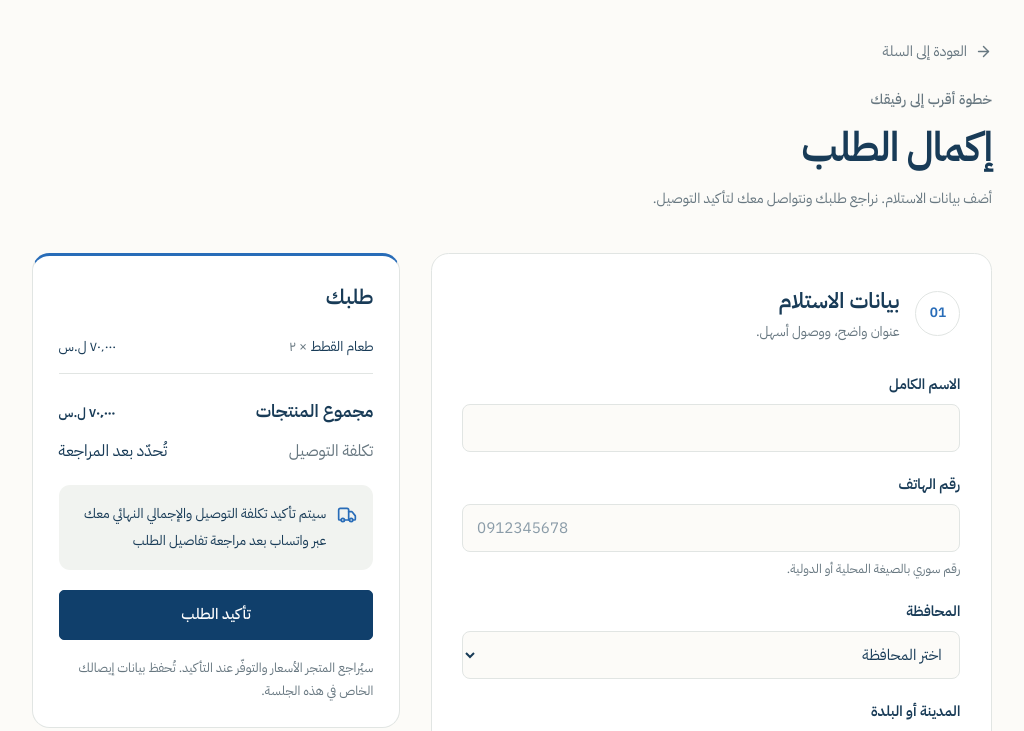
Test: checkout validation and recovery › offers all fourteen governorates and submits without a legacy delivery region or computed fee
Type "سارة أحمد" into the field labelled "الاسم الكامل" at (711, 428), box [462,404,960,452]
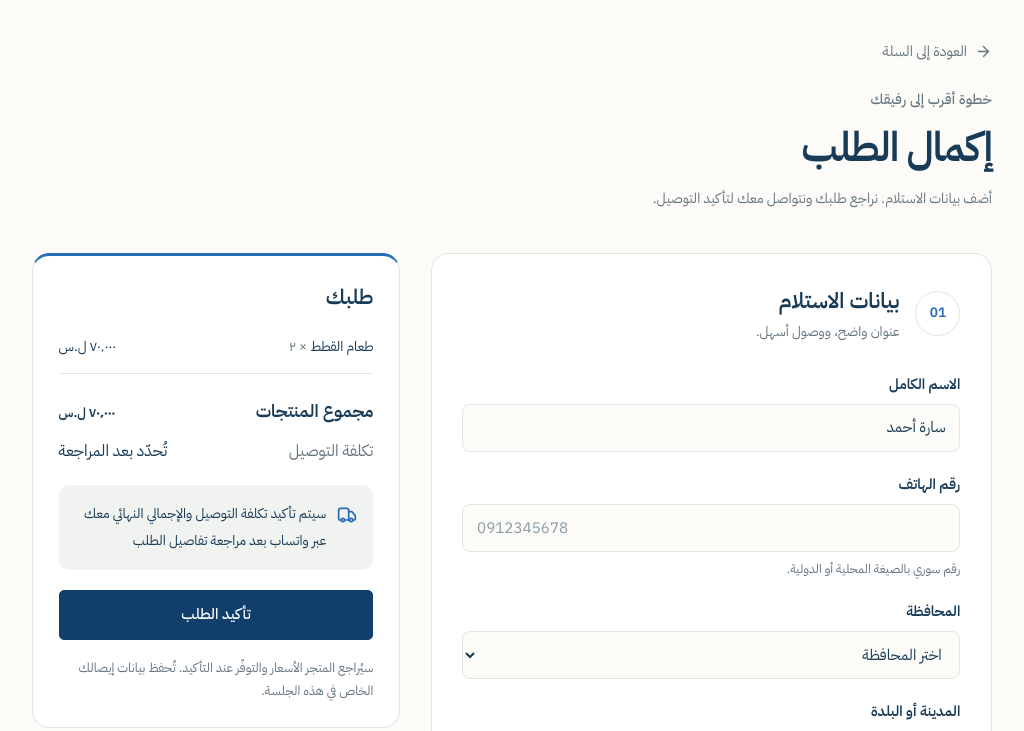
Type "٠٩١٢٣٤٥٦٧٨" into the field labelled "رقم الهاتف" at (711, 528), box [462,504,960,552]
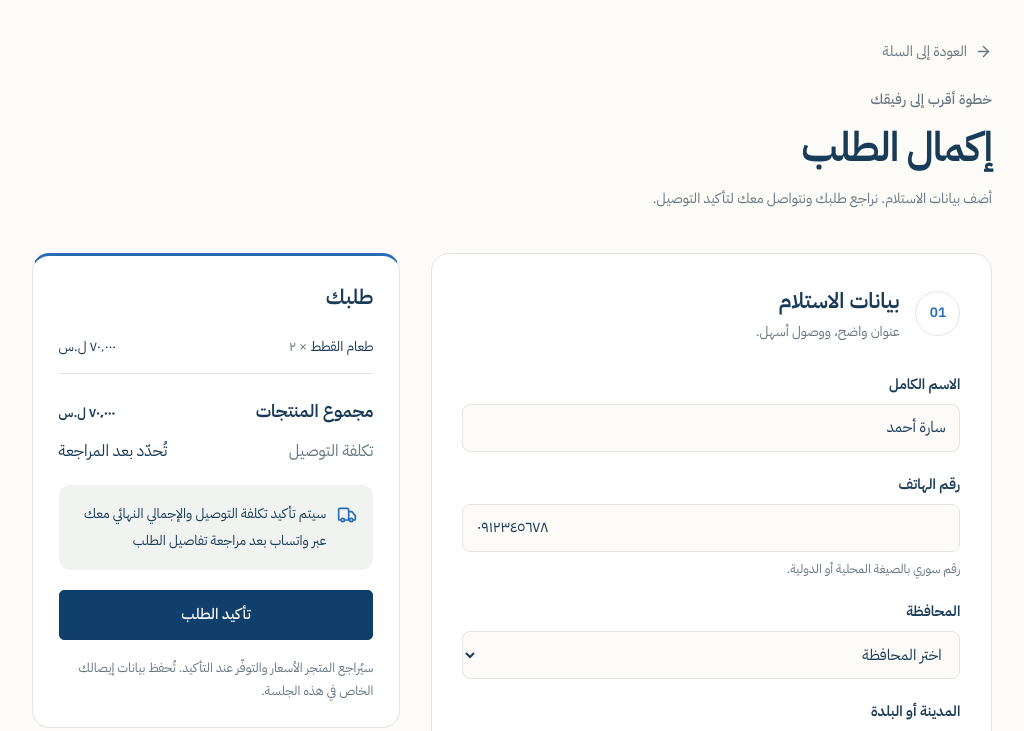
Select "دمشق" in the dropdown labelled "المحافظة" at (711, 655), box [462,631,960,679]
(page scrolled)
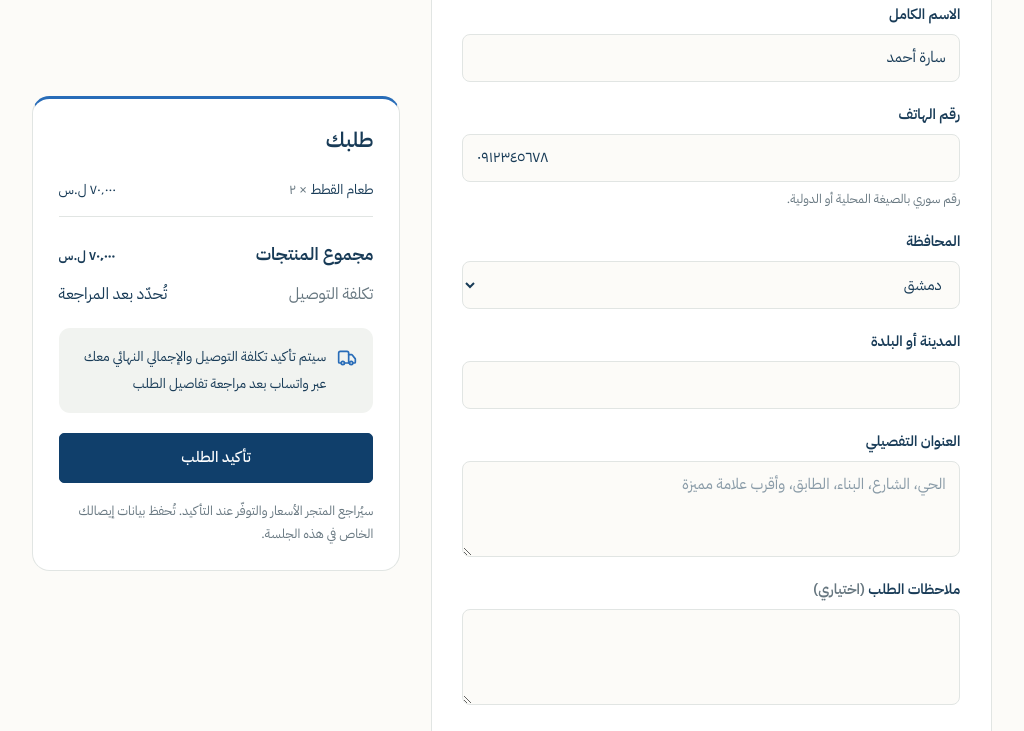
Type "دمشق" into the field labelled "المدينة أو البلدة" at (711, 385), box [462,361,960,409]
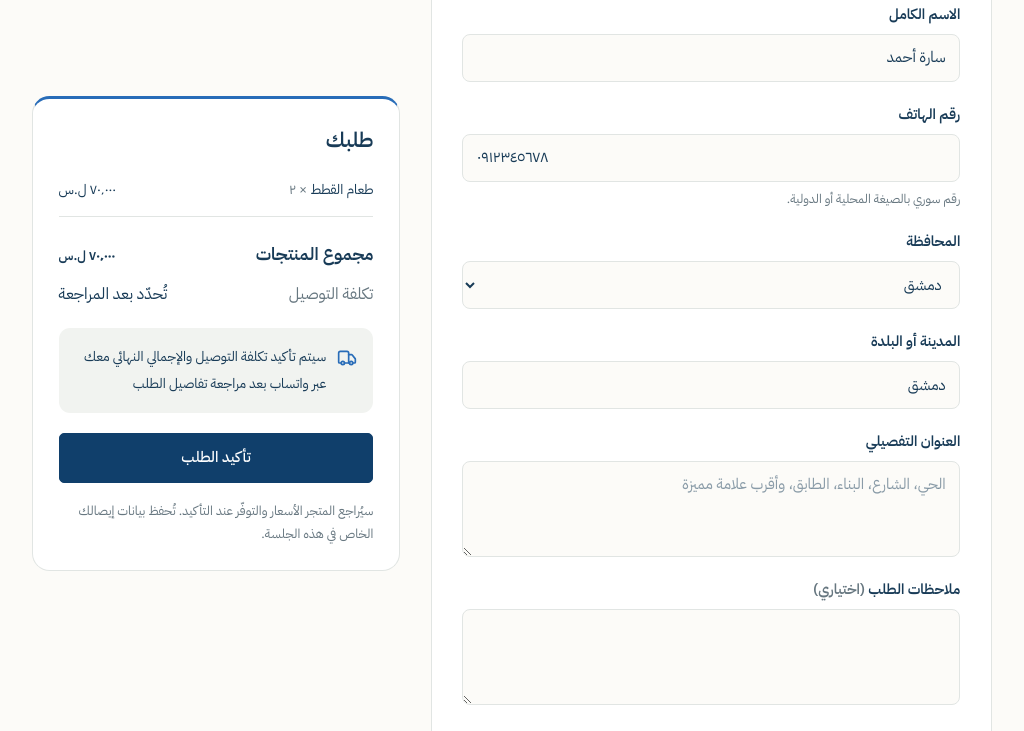
Type "المزة، شارع الجامعة، بناء ١٢" into the text box labelled "العنوان التفصيلي" at (711, 509), box [462,461,960,557]
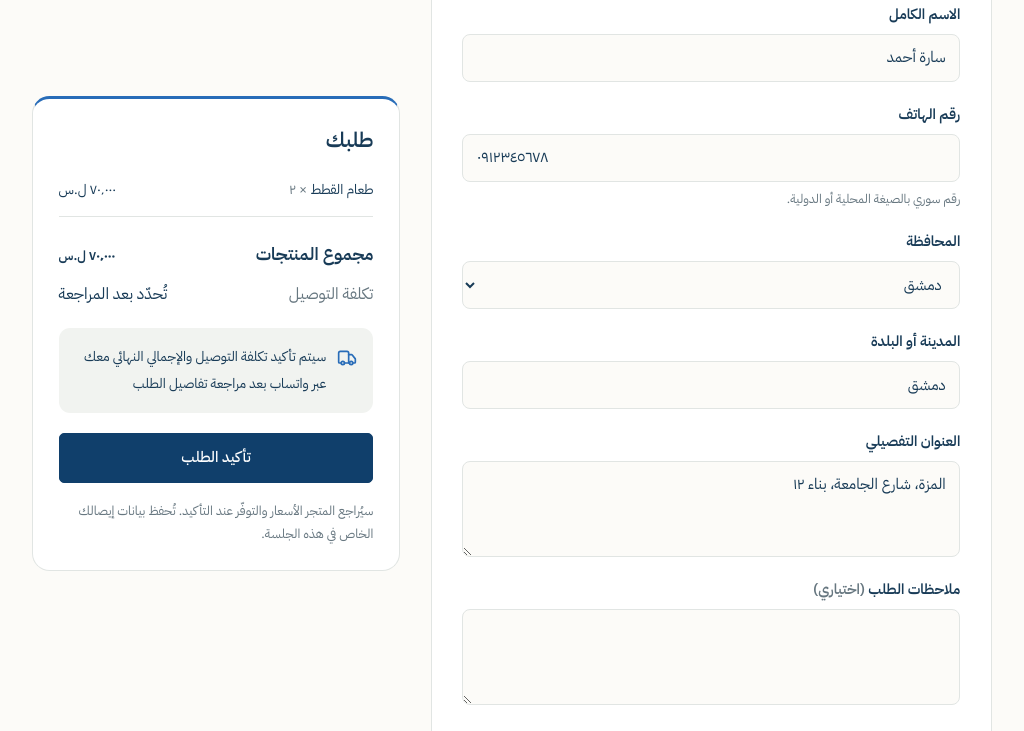
Expected: the text "سيتم تأكيد تكلفة التوصيل والإجمالي النهائي معك عبر واتساب بعد مراجعة تفاصيل الطلب" is shown, [84,346,326,394]
Click the button "تأكيد الطلب" at (216, 458), box [59,432,373,482]
(page scrolled)
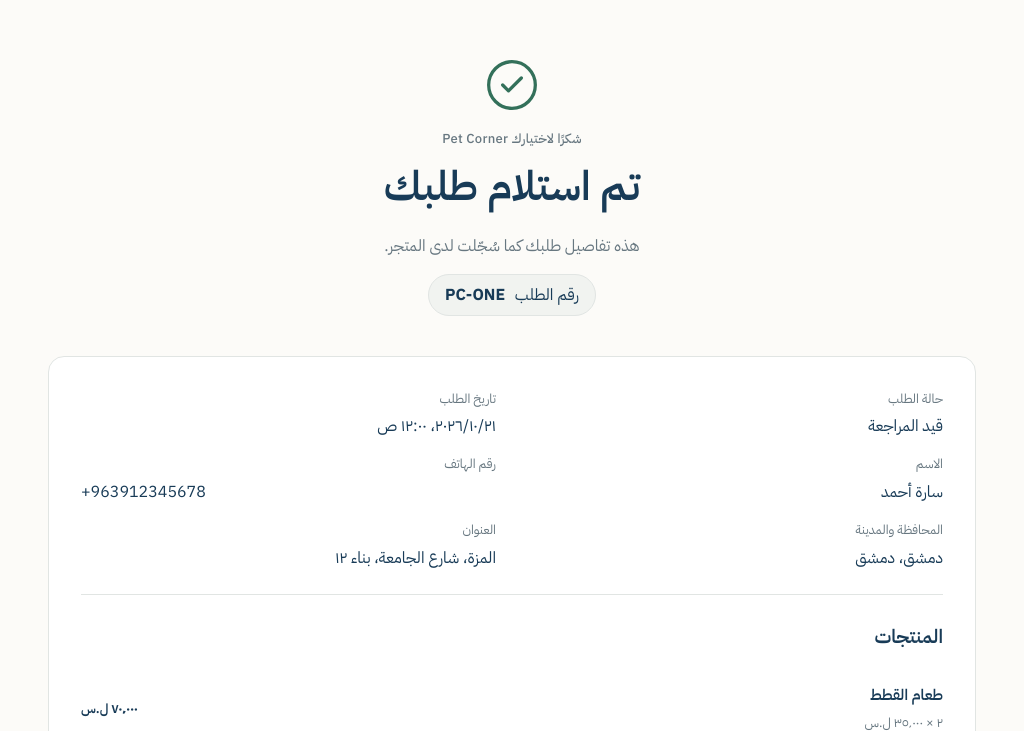
Result: the heading "تم استلام طلبك" is shown at [384,156,640,218]
